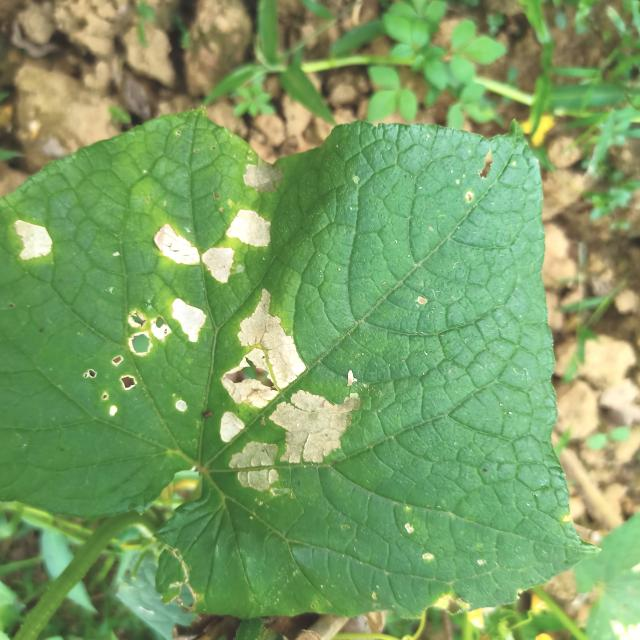disease_cucumber: (216, 284, 358, 496), (79, 290, 207, 430), (147, 204, 279, 284), (7, 214, 62, 266)
